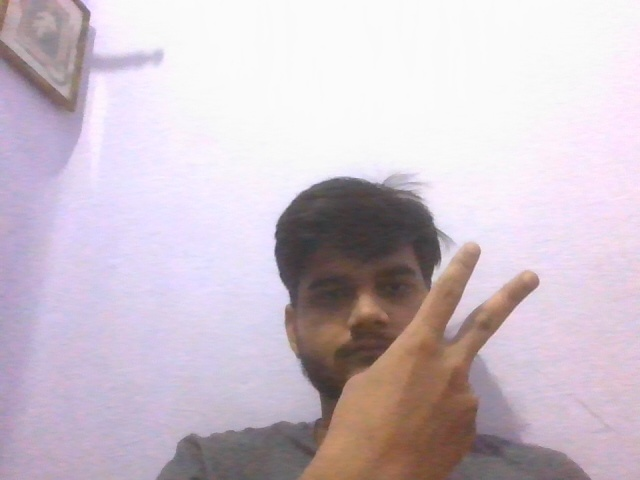yes: (307, 227, 547, 480)
